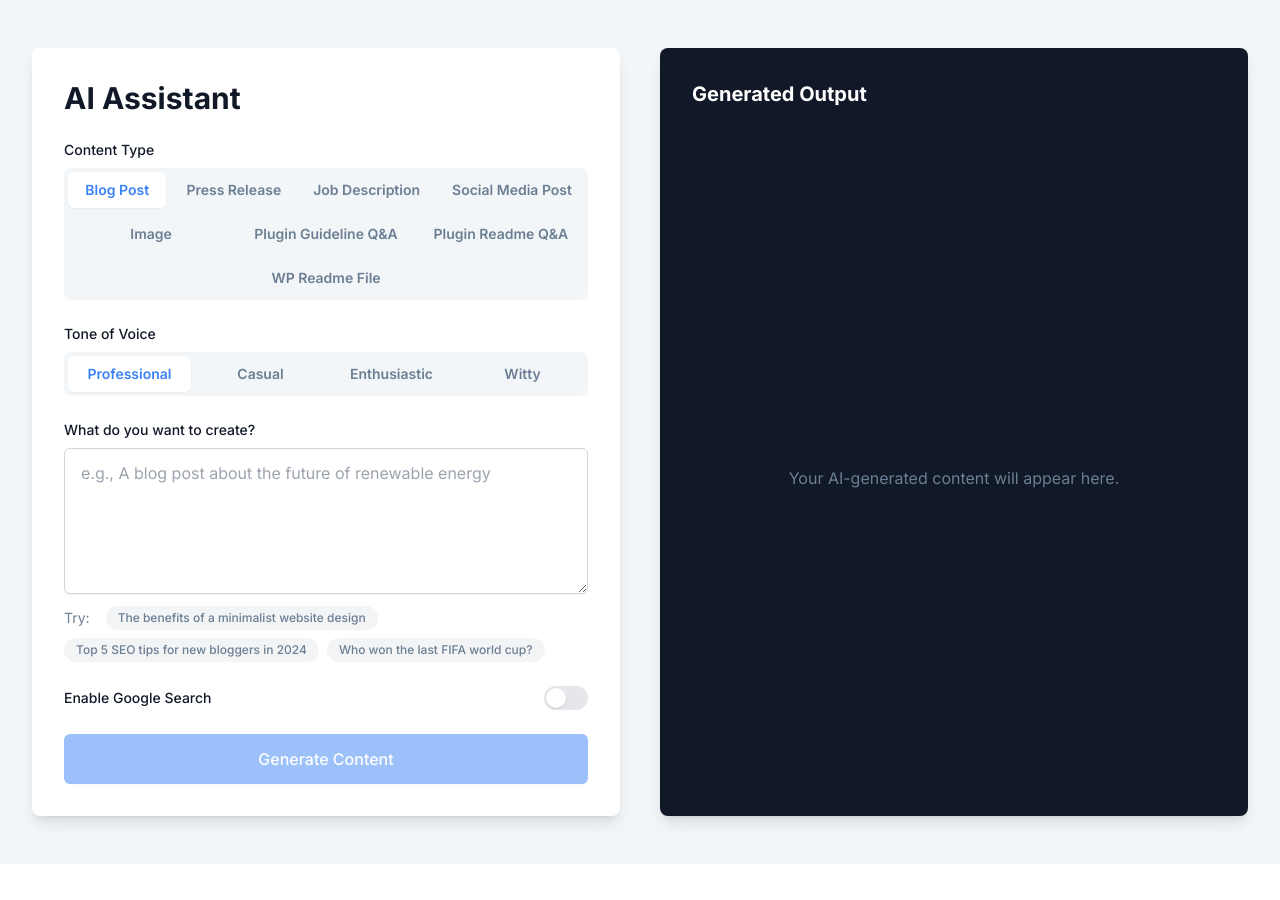
Test: AIAssistantPage › handles error states
Try to generate content
Type "test prompt" into the text box labelled "What do you want to create?". click: (326, 521)
box: [64, 448, 588, 594]
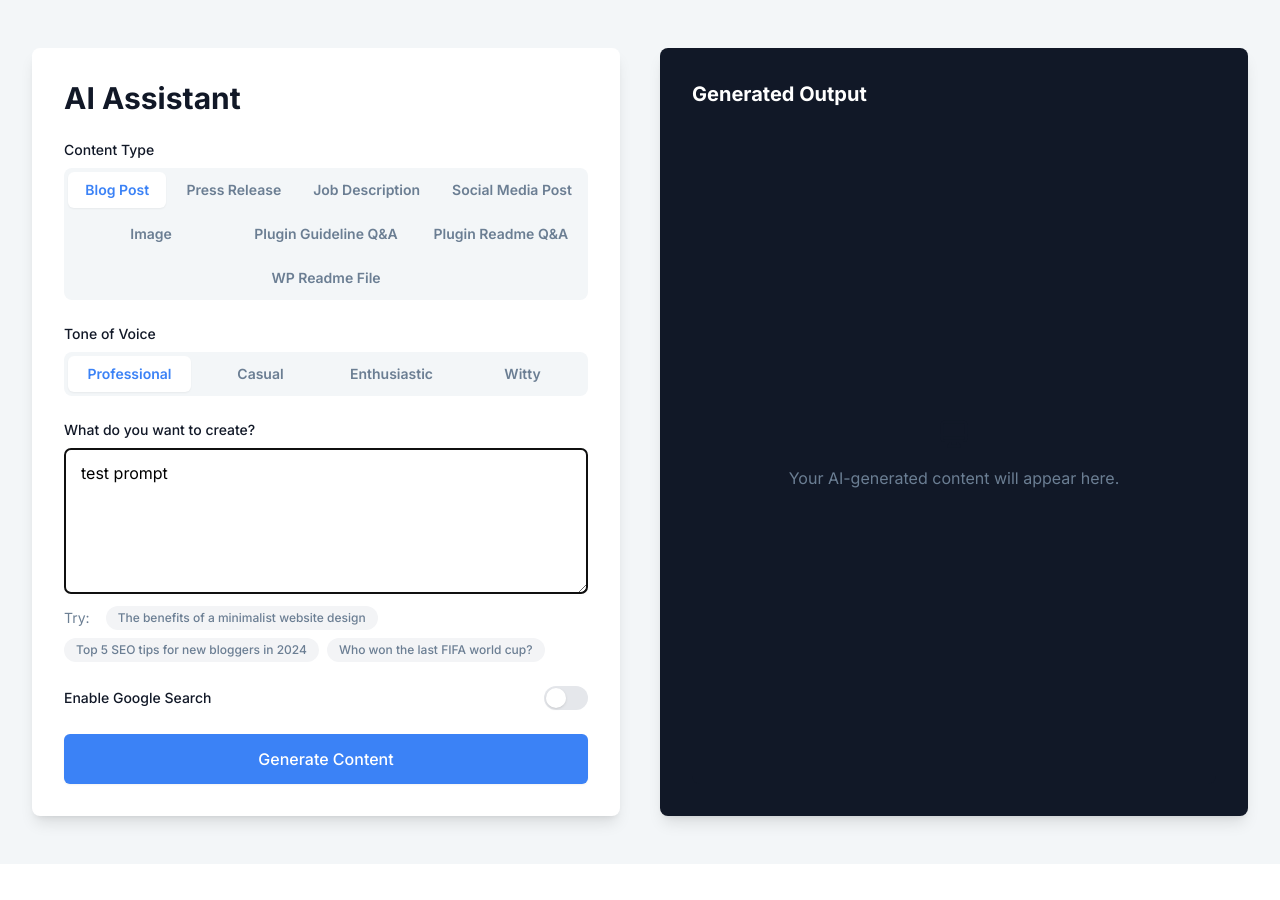
Click the button "Generate Content". click: (326, 759)
box: [64, 734, 588, 784]
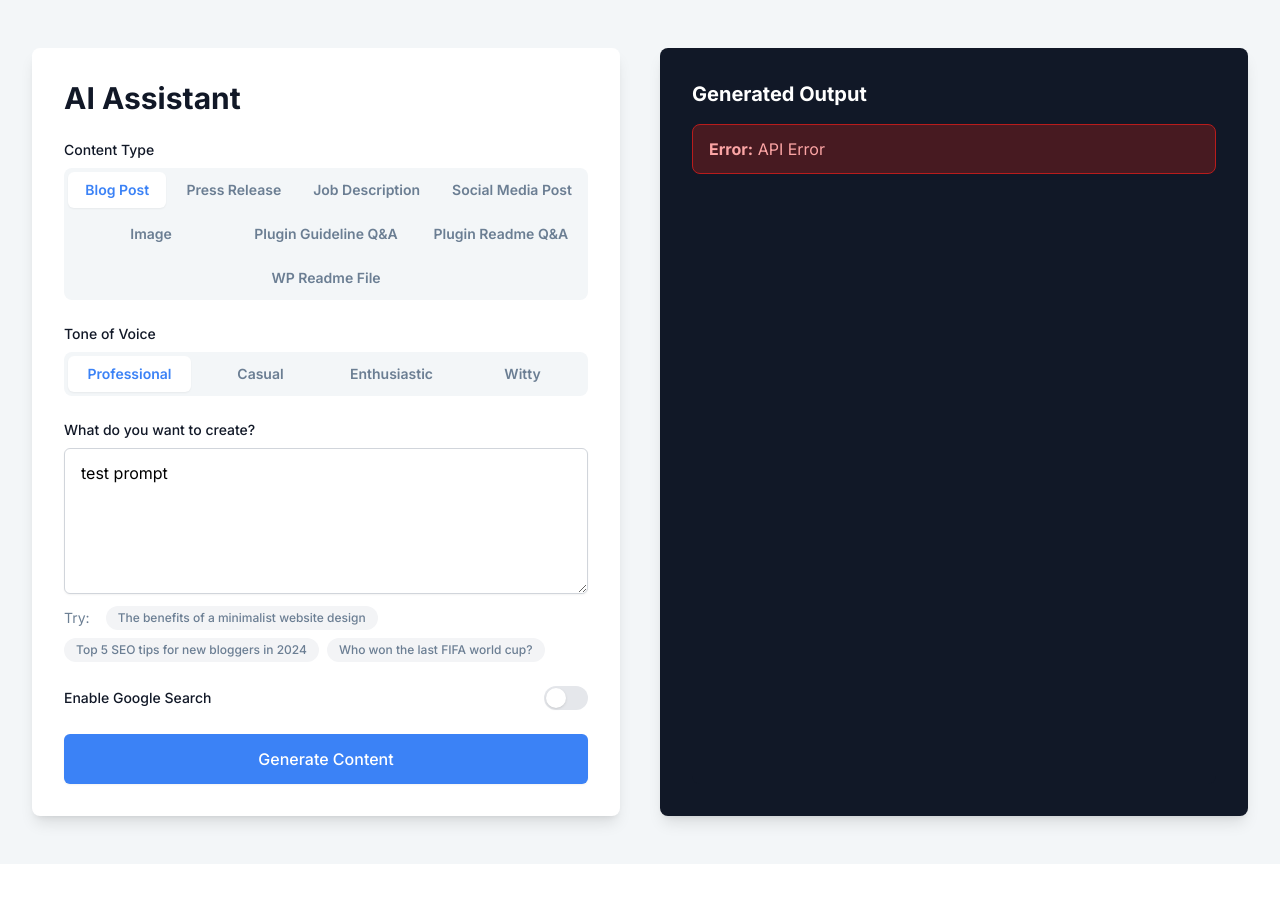
Expected: the text "Error: API Error" is shown, [692, 124, 1216, 174]
